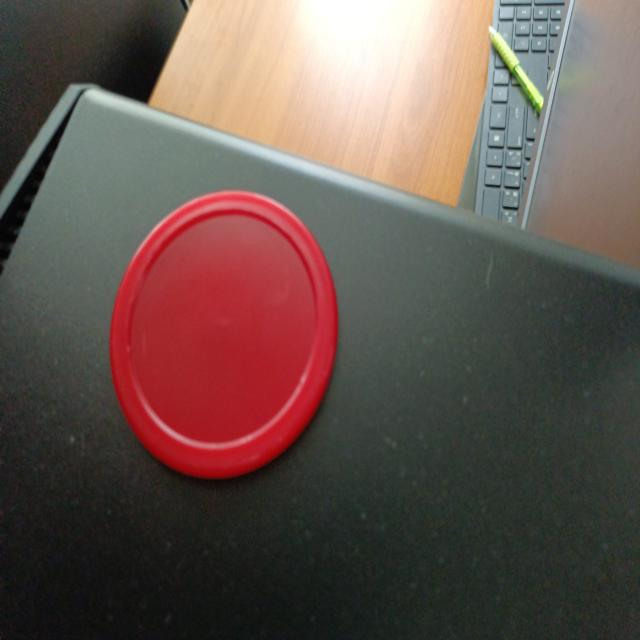chip: (113, 189, 342, 477)
